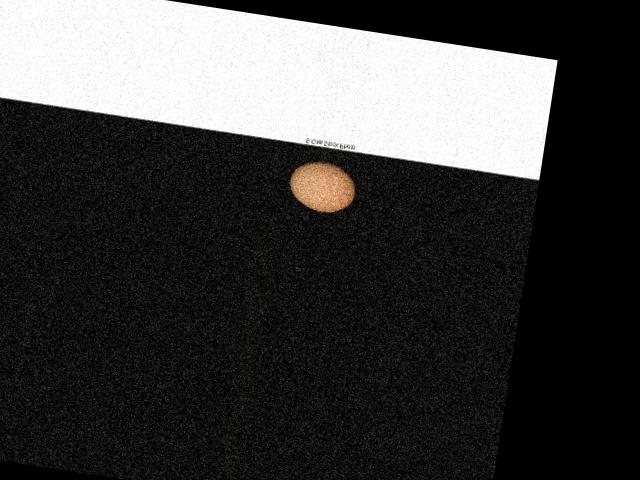egg: (286, 156, 359, 215)
